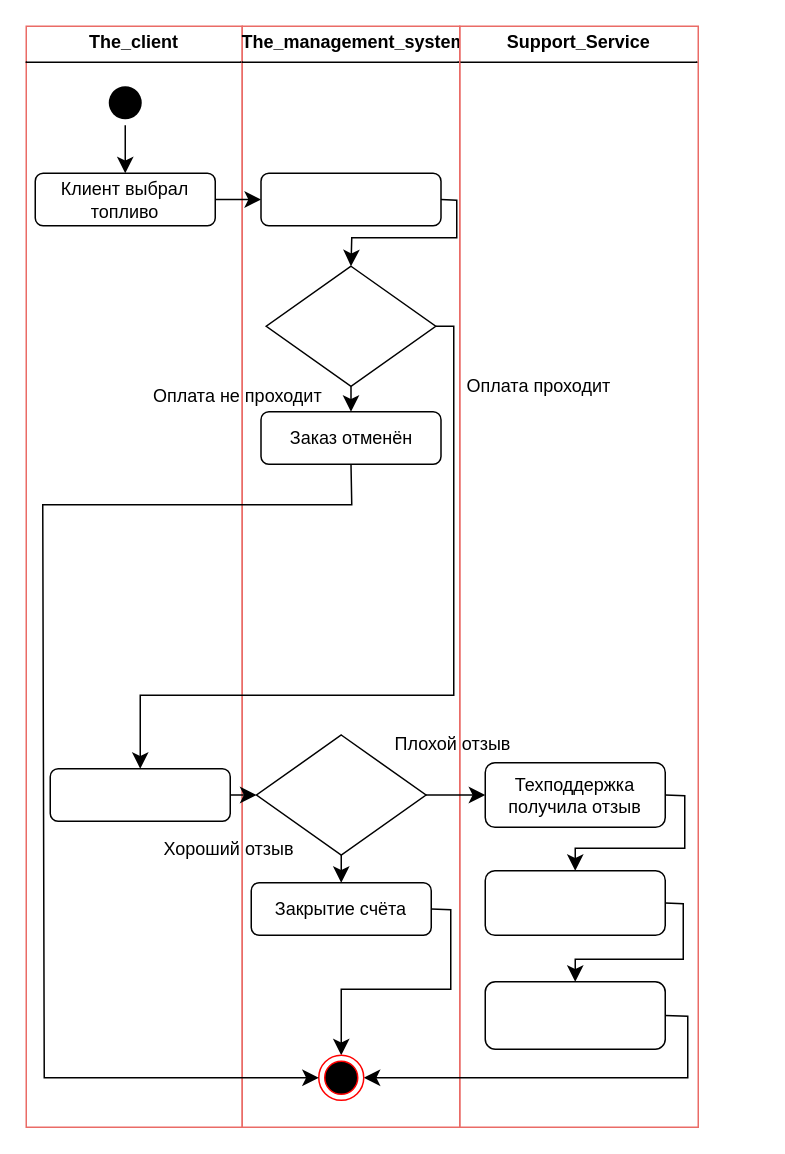
The diagram is 785 pixels wide and 1154 high, and some of its shapes have lost their labels. Here are the shapes that lost their labels. From the top down, the centre of each, then its label:
At point 350,199: "Подготовка заказа".
At point 139,794: "Клиент заправился".
At point 574,902: "Техподдержка выясненяет проблему".
At point 574,1014: "Техподдержка привела решение проблемы".
